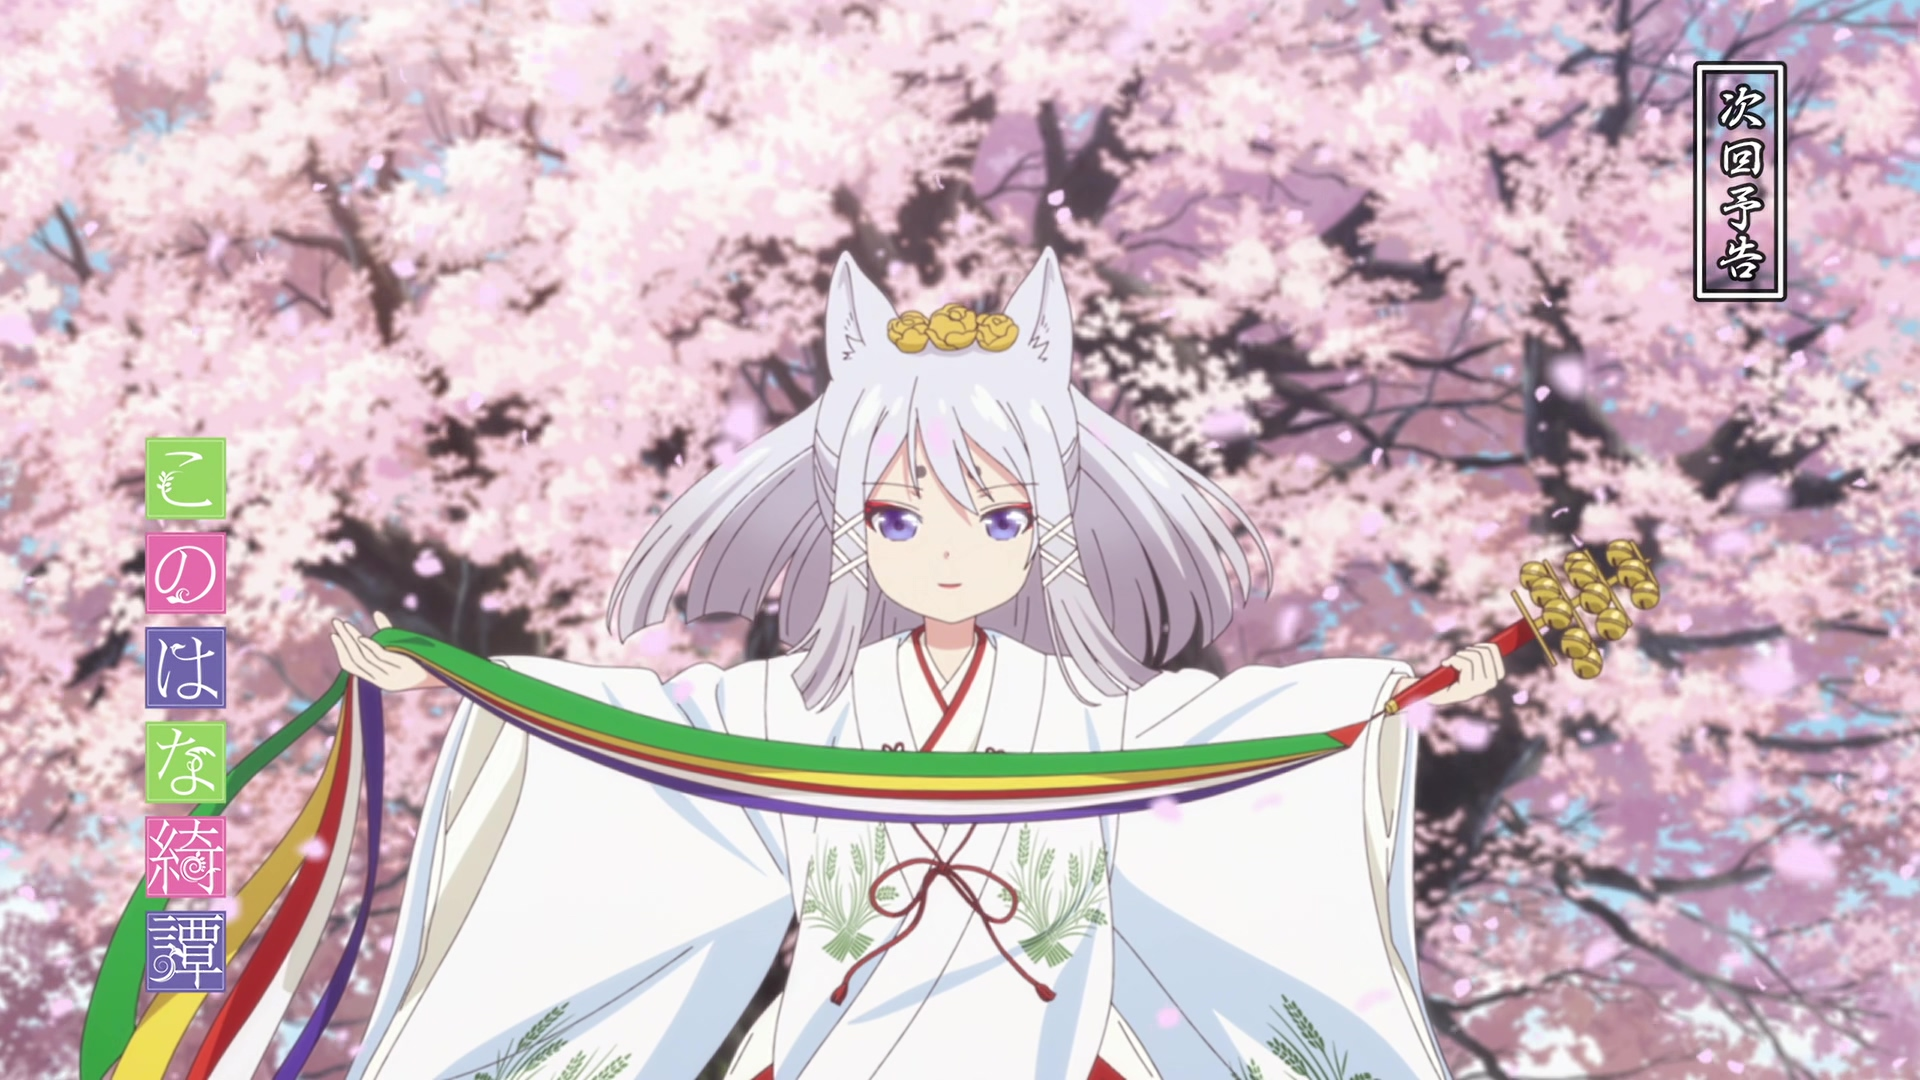柊: (330, 249, 1505, 1080)
